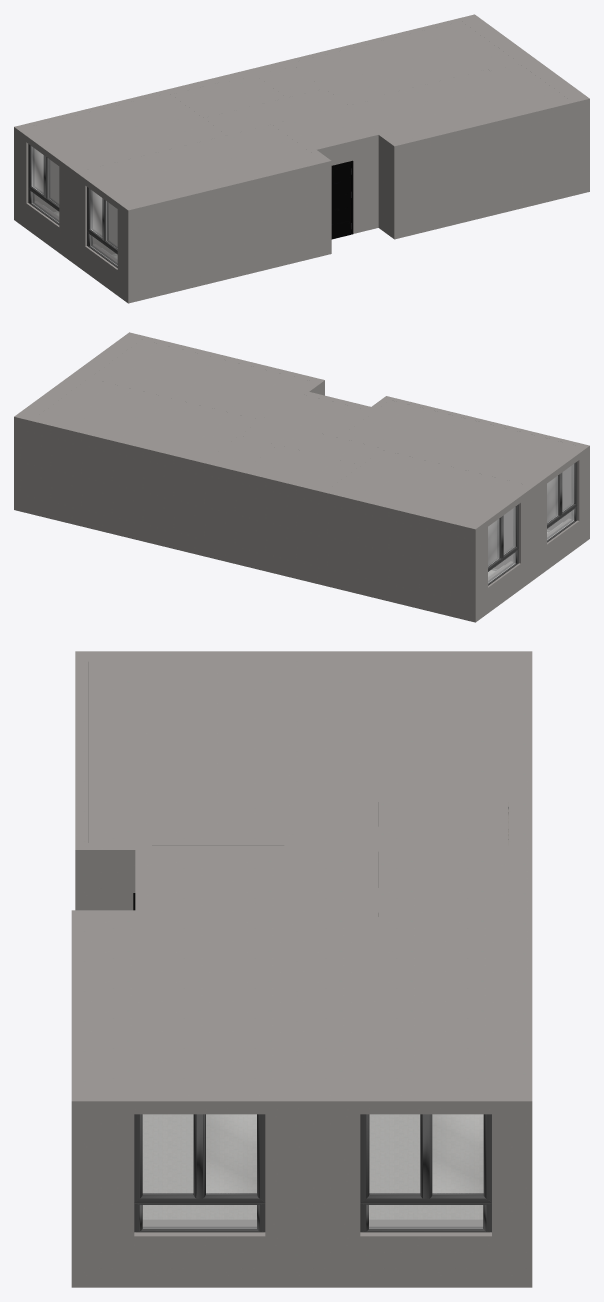
The model's file is apt-3room-113.glb.
3 renders of one model, top to bottom at view 1: azimuth 30°, elevation 25°; view 2: azimuth 150°, elevation 25°; view 3: azimuth 270°, elevation 25°, orthographic. The views are drawn at different scales.
Visible parts, largest first — view 1: Walls, Ceiling, Door Stainless Steel modern, B_2_4_1Exterior_Glass.008, B_2_4_1Exterior_Glass.009, B_2_4_2_Exterior_Glass..009, B_2_4_3_Interior_Glass..008, B_2_4_2_Exterior_Glass..008, B_2_4_4_Interior_Glass.008, B_2_4_3_Interior_Glass..009, B_2_4_4_Interior_Glass.009; view 2: Walls, Ceiling, B_2_4_2_Exterior_Glass..008, B_2_4_2_Exterior_Glass..009, B_2_4_1Exterior_Glass.008, B_2_4_4_Interior_Glass.009, B_2_4_1Exterior_Glass.009, B_2_4_4_Interior_Glass.008, B_2_4_3_Interior_Glass..008, B_2_4_3_Interior_Glass..009; view 3: Ceiling, Walls, Floor, B_2_4_3_Interior_Glass..007, B_2_4_1Exterior_Glass.007, B_2_4_1Exterior_Glass, B_2_4_3_Interior_Glass., B_2_4_4_Interior_Glass, B_2_4_4_Interior_Glass.007, B_2_4_2_Exterior_Glass., B_2_4_2_Exterior_Glass..007, B_1_4_2_Interior_Glasss (+8 smaller).
Part boxes in pixels (x1=…): Walls: x1=14, y1=14, x2=589, y2=303; Ceiling: x1=28, y1=21, x2=568, y2=205; Door Stainless Steel modern: x1=331, y1=160, x2=353, y2=239; B_2_4_1Exterior_Glass.008: x1=32, y1=147, x2=43, y2=194; B_2_4_1Exterior_Glass.009: x1=90, y1=190, x2=101, y2=237; B_2_4_2_Exterior_Glass..009: x1=106, y1=201, x2=117, y2=248; B_2_4_3_Interior_Glass..008: x1=32, y1=147, x2=43, y2=193; B_2_4_2_Exterior_Glass..008: x1=48, y1=158, x2=58, y2=205; B_2_4_4_Interior_Glass.008: x1=48, y1=159, x2=58, y2=205; B_2_4_3_Interior_Glass..009: x1=91, y1=190, x2=101, y2=236; B_2_4_4_Interior_Glass.009: x1=107, y1=202, x2=117, y2=247; Walls: x1=14, y1=332, x2=589, y2=622; Ceiling: x1=35, y1=340, x2=575, y2=523; B_2_4_2_Exterior_Glass..008: x1=504, y1=507, x2=515, y2=554; B_2_4_2_Exterior_Glass..009: x1=562, y1=464, x2=573, y2=511; B_2_4_1Exterior_Glass.008: x1=488, y1=519, x2=499, y2=566; B_2_4_4_Interior_Glass.009: x1=562, y1=465, x2=573, y2=510; B_2_4_1Exterior_Glass.009: x1=547, y1=476, x2=557, y2=522; B_2_4_4_Interior_Glass.008: x1=504, y1=507, x2=514, y2=553; B_2_4_3_Interior_Glass..008: x1=488, y1=519, x2=498, y2=565; B_2_4_3_Interior_Glass..009: x1=547, y1=476, x2=557, y2=522; Ceiling: x1=88, y1=661, x2=516, y2=1084; Walls: x1=71, y1=651, x2=532, y2=1287; Floor: x1=143, y1=1114, x2=483, y2=1219; B_2_4_3_Interior_Glass..007: x1=432, y1=1114, x2=483, y2=1194; B_2_4_1Exterior_Glass.007: x1=432, y1=1114, x2=483, y2=1194; B_2_4_1Exterior_Glass: x1=206, y1=1114, x2=256, y2=1194; B_2_4_3_Interior_Glass.: x1=206, y1=1114, x2=256, y2=1194; B_2_4_4_Interior_Glass: x1=143, y1=1114, x2=193, y2=1194; B_2_4_4_Interior_Glass.007: x1=369, y1=1114, x2=419, y2=1194; B_2_4_2_Exterior_Glass.: x1=143, y1=1114, x2=193, y2=1194; B_2_4_2_Exterior_Glass..007: x1=369, y1=1114, x2=419, y2=1194; B_1_4_2_Interior_Glasss: x1=143, y1=1205, x2=256, y2=1228.
Bounding box in the file's own units: 15.02 × 2.92 × 6.5.
Materials: 31 (12 with a texture image).
